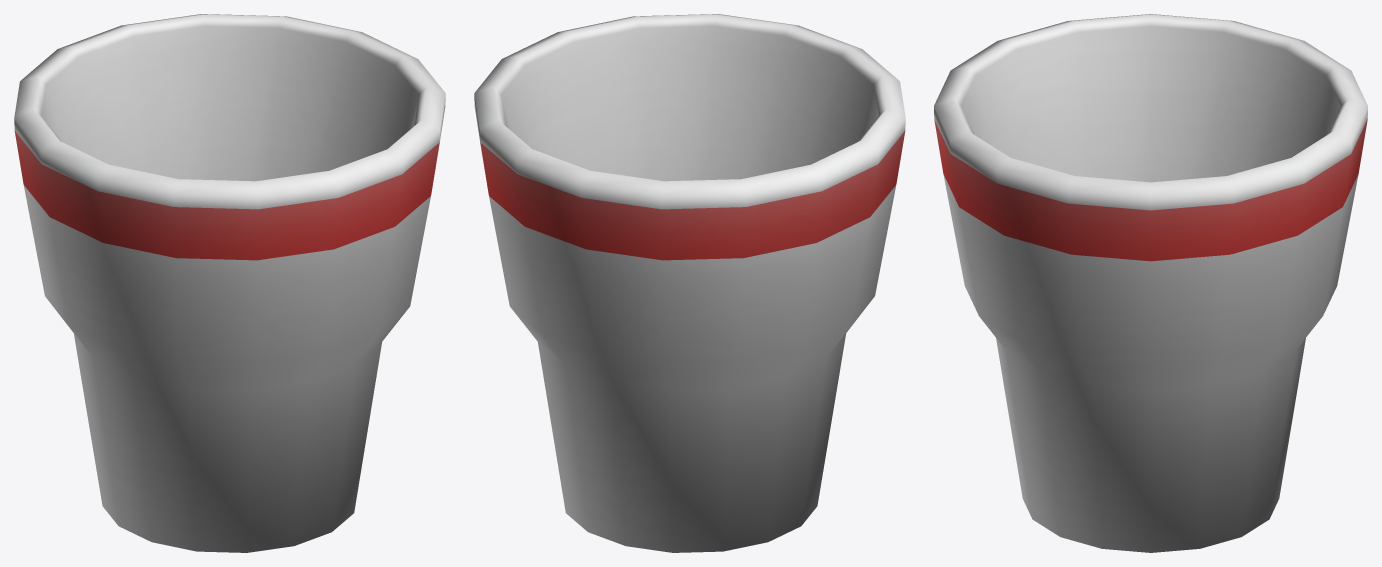
The model's file is M_Prop_Cup_002.fbx.
3 views of the same model, side by side, from view 1: azimuth 30°, elevation 25°; view 2: azimuth 150°, elevation 25°; view 3: azimuth 270°, elevation 25° (orthographic).
Visible parts, largest first — view 1: Cup2; view 2: Cup2; view 3: Cup2.
Part boxes in pixels (bbox=[...]): Cup2: bbox=[14, 14, 445, 552]; Cup2: bbox=[474, 14, 905, 552]; Cup2: bbox=[934, 14, 1367, 552].
Bounding box in the file's own units: 16.92 × 17.21 × 16.92.
